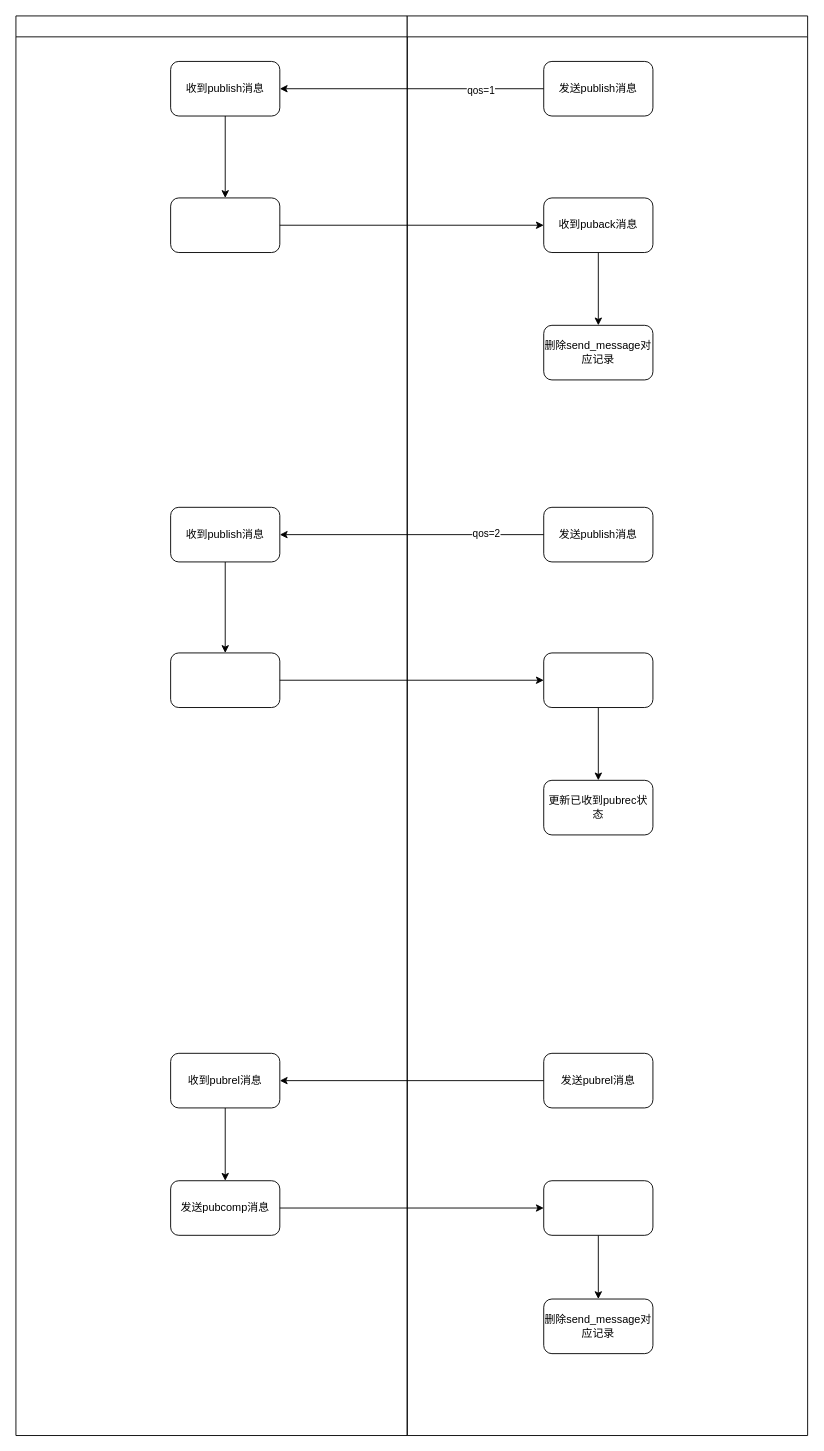
Some shapes in this 824 by 1451 pixel diagram are drawn without their labels. The shapes that lost their labels are listed below. From the top down, each one's box as (x1, y1, x2, y2) in pixels, then its label:
(170, 197, 280, 253): 发送puback消息
(170, 652, 280, 708): 发送pubrec消息
(543, 652, 653, 708): 收到pubrec消息
(15, 15, 407, 1436): 客户端
(406, 15, 808, 1436): 服务端
(543, 1180, 653, 1235): 收到pubcomp消息
